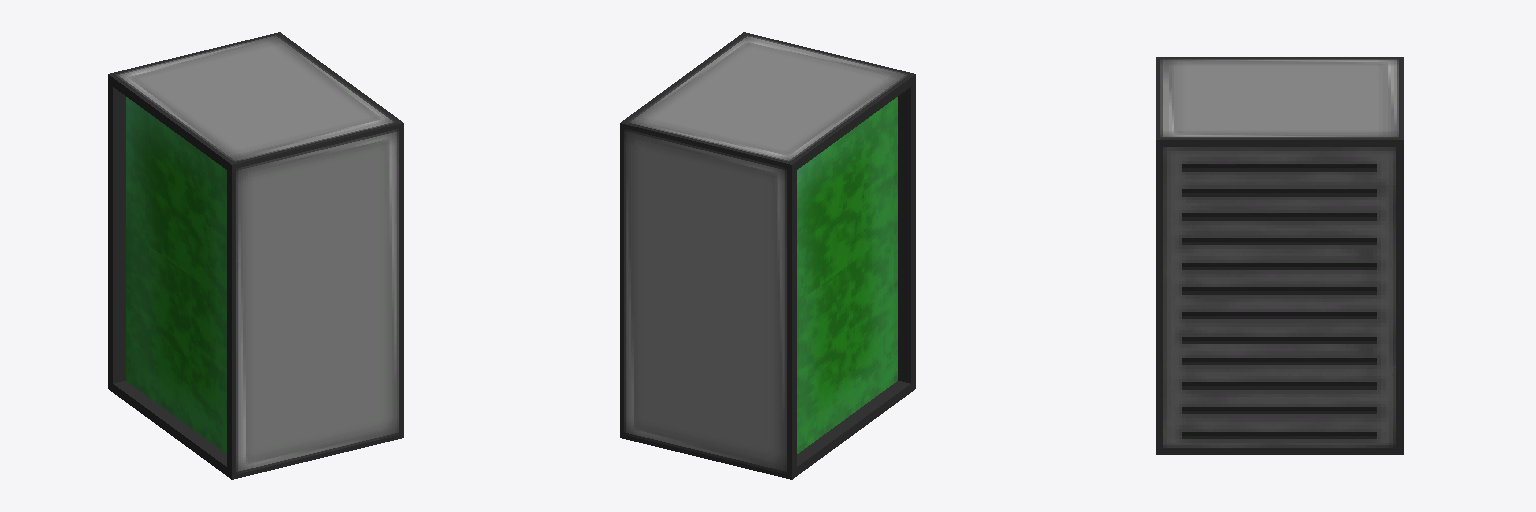
3 views of the same model, side by side, from view 1: azimuth 30°, elevation 25°; view 2: azimuth 150°, elevation 25°; view 3: azimuth 270°, elevation 25° (orthographic).
Visible parts, largest first — view 1: Cloningbay1; view 2: Cloningbay1; view 3: Cloningbay1.
Boxes of the visible parts, box(x1,y1,x2,y2) form: Cloningbay1: box(108, 32, 403, 479); Cloningbay1: box(620, 32, 915, 479); Cloningbay1: box(1156, 57, 1403, 454).
Size of the model in its own units: 4 by 7 by 5.
1 materials, 1 textured.